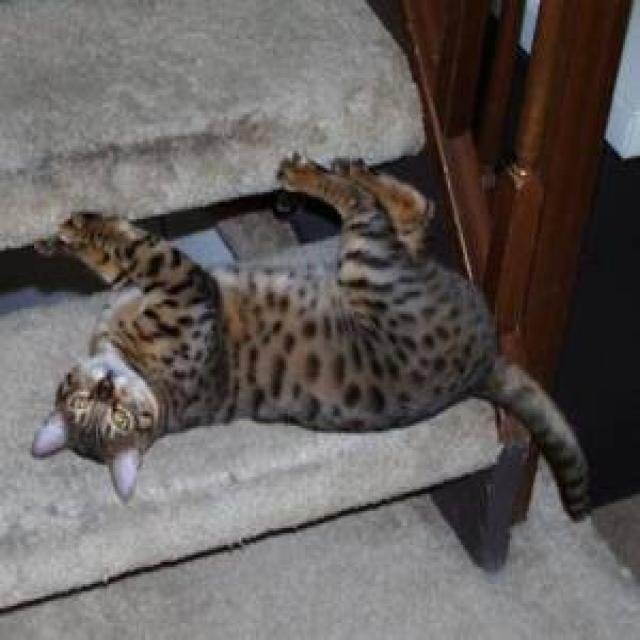Bengal: (30, 350, 156, 499)
